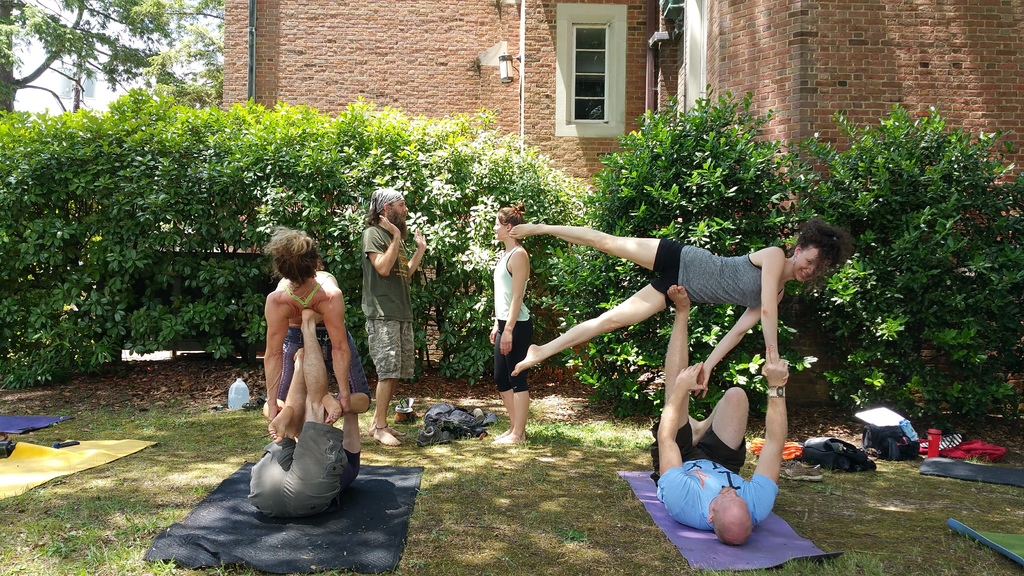Tree: (0, 0, 180, 113)
